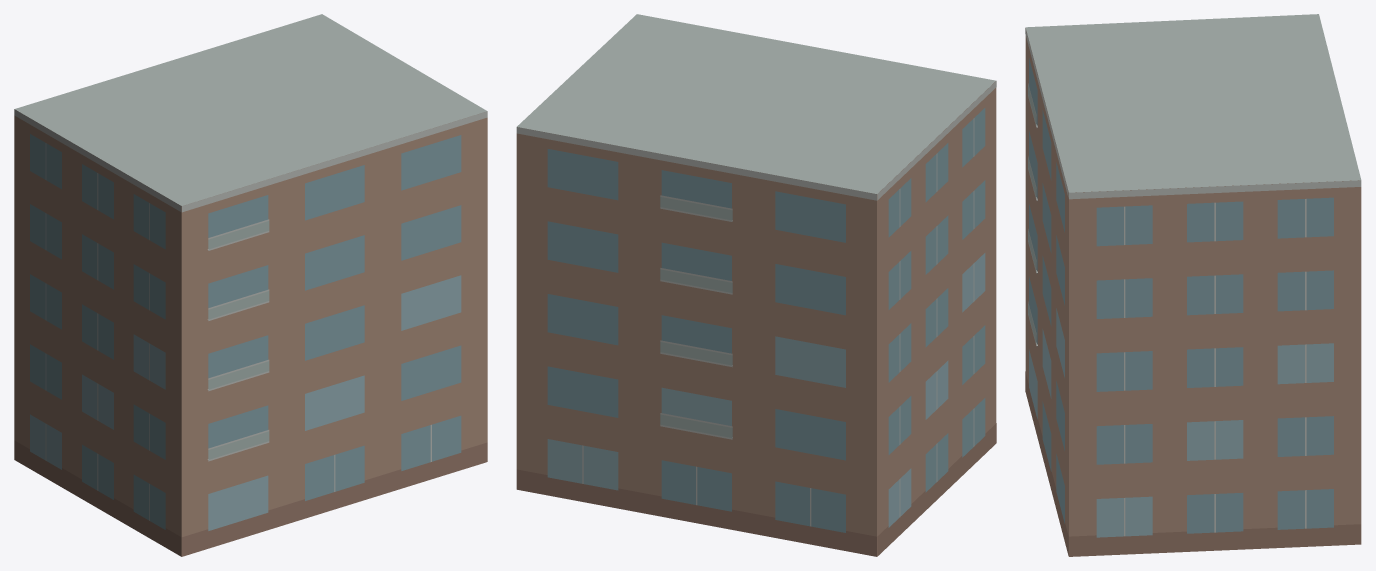
Rendered from survey-upis-32908785.glb.
3 views of the same model, side by side, from view 1: azimuth 30°, elevation 25°; view 2: azimuth 150°, elevation 25°; view 3: azimuth 270°, elevation 25° (orthographic). The views are drawn at different scales.
Visible parts, largest first — view 1: survey-upis-32908785.tmp; view 2: survey-upis-32908785.tmp; view 3: survey-upis-32908785.tmp.
Part boxes in pixels (bbox=[...]): survey-upis-32908785.tmp: bbox=[14, 14, 487, 556]; survey-upis-32908785.tmp: bbox=[516, 14, 996, 556]; survey-upis-32908785.tmp: bbox=[1025, 14, 1361, 556].
Bounding box in the file's own units: 14.22 × 13.5 × 11.3.
